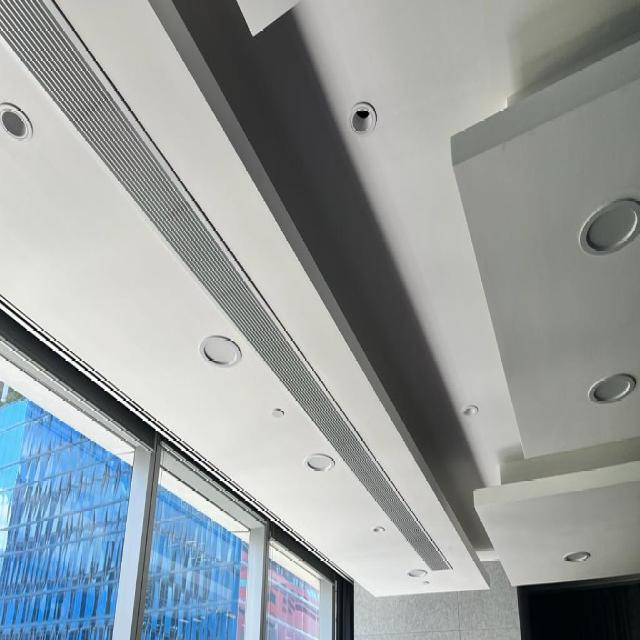Light-Closed: (577, 195, 640, 261), (583, 366, 638, 411), (197, 332, 245, 369), (0, 95, 36, 143), (344, 100, 380, 140), (300, 445, 337, 479), (562, 542, 594, 568), (460, 400, 480, 423), (402, 566, 430, 581), (369, 520, 387, 536)
